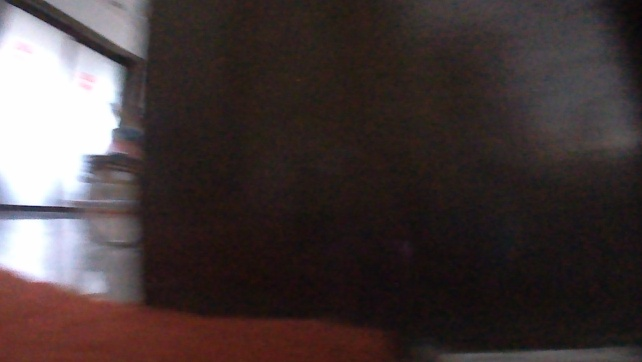blanket: (0, 264, 408, 361)
